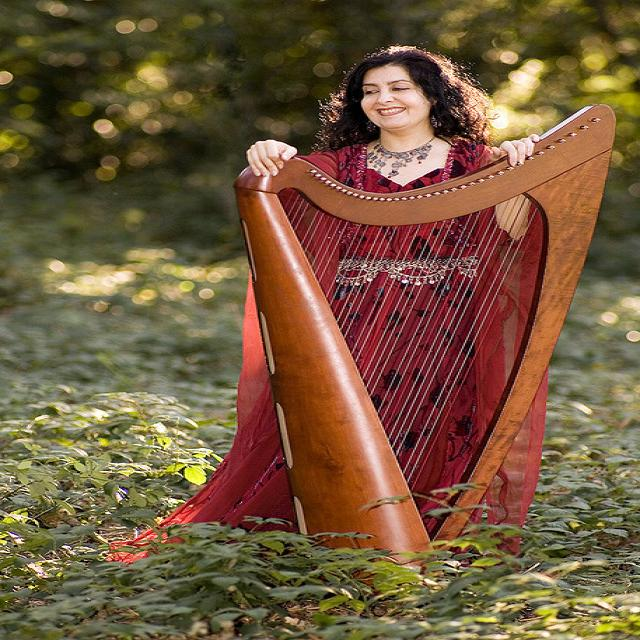harp: (228, 98, 623, 604)
